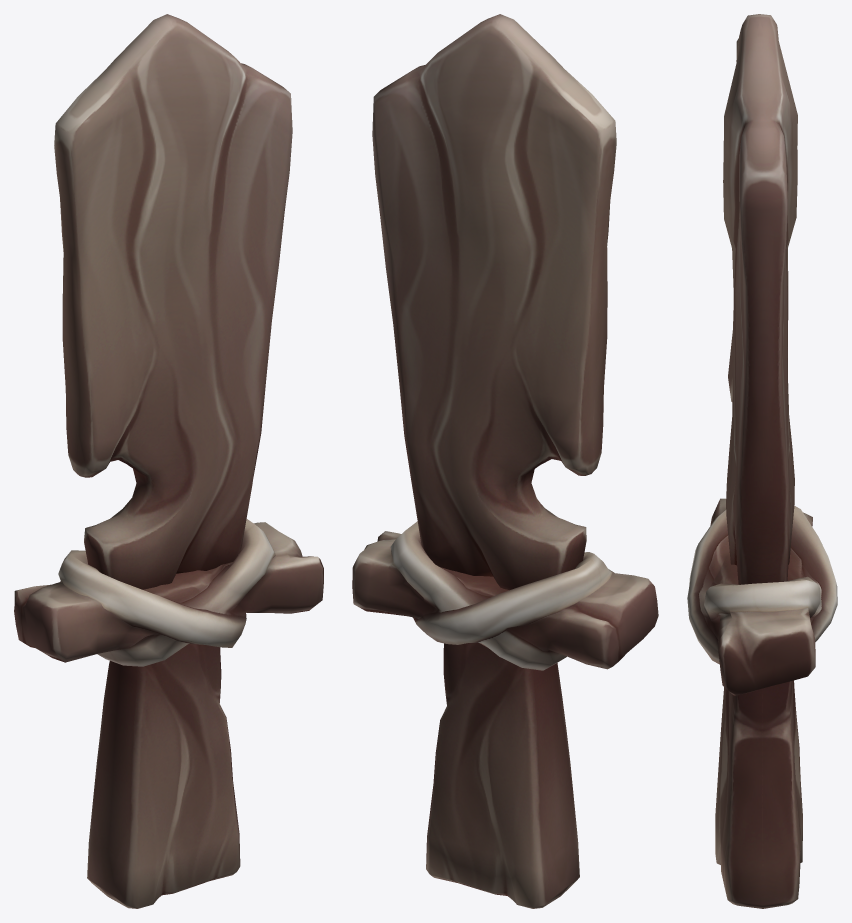
The model's file is Wooden Sword.FBX.
The picture shows the model from 3 angles, left to right: view 1: azimuth 30°, elevation 25°; view 2: azimuth 150°, elevation 25°; view 3: azimuth 270°, elevation 25°; orthographic projection.
Visible parts, largest first — view 1: Wooden Sword; view 2: Wooden Sword; view 3: Wooden Sword.
Part boxes in pixels (box(x1,y1,x2,y2)): Wooden Sword: box(14, 14, 323, 908); Wooden Sword: box(352, 14, 658, 908); Wooden Sword: box(687, 14, 837, 908).
Bounding box in the file's own units: 22.34 × 10.48 × 66.86.
1 material, 1 textured.
